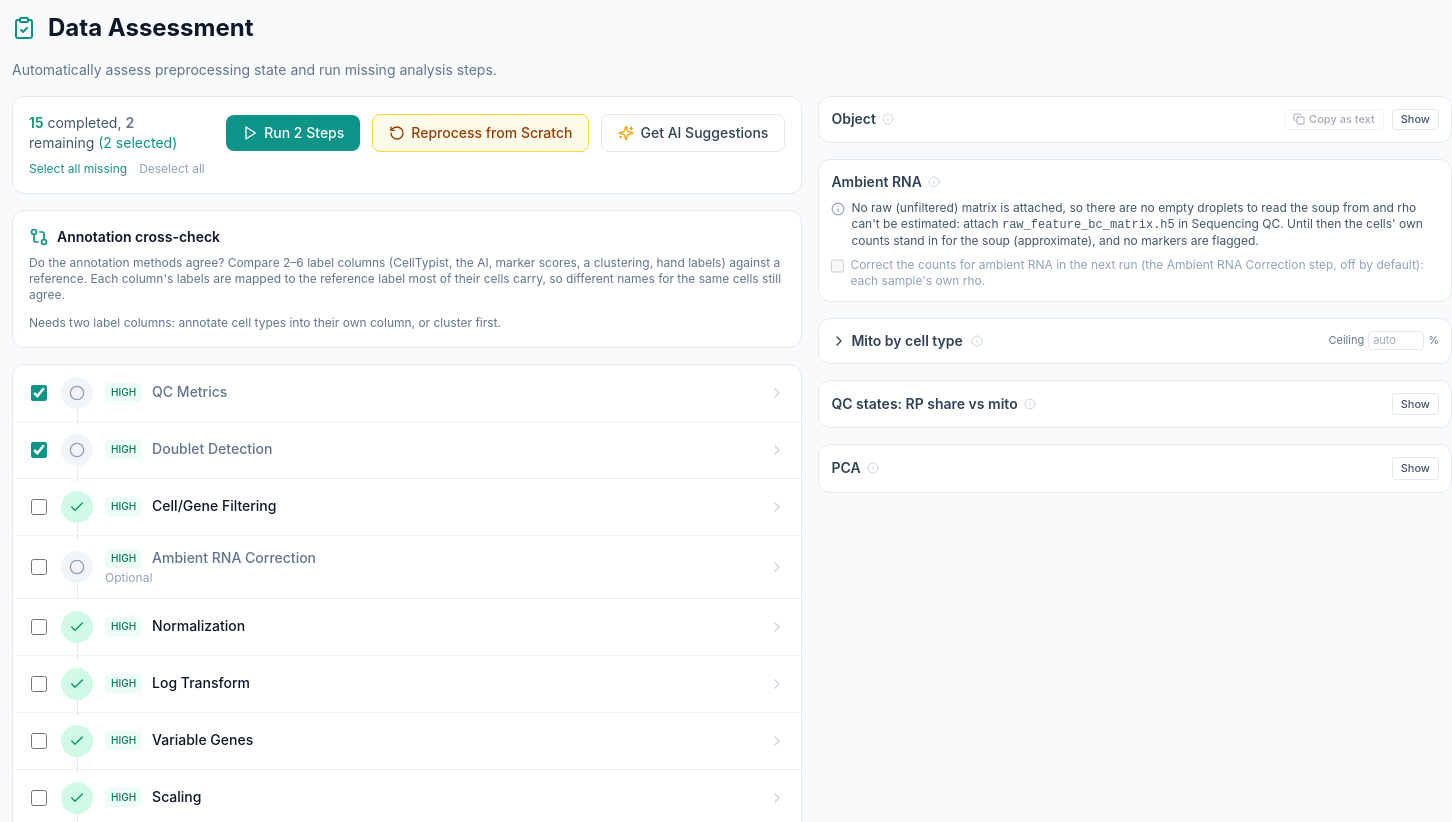
Scenario: DataAssessmentPanel run progress: watchdog, Cancel, outcome › a run that finished with errors: not 'complete'; what failed, what was skipped, what was removed
Click the button "Run 2 Steps" at (293, 133), box [226,115,360,151]
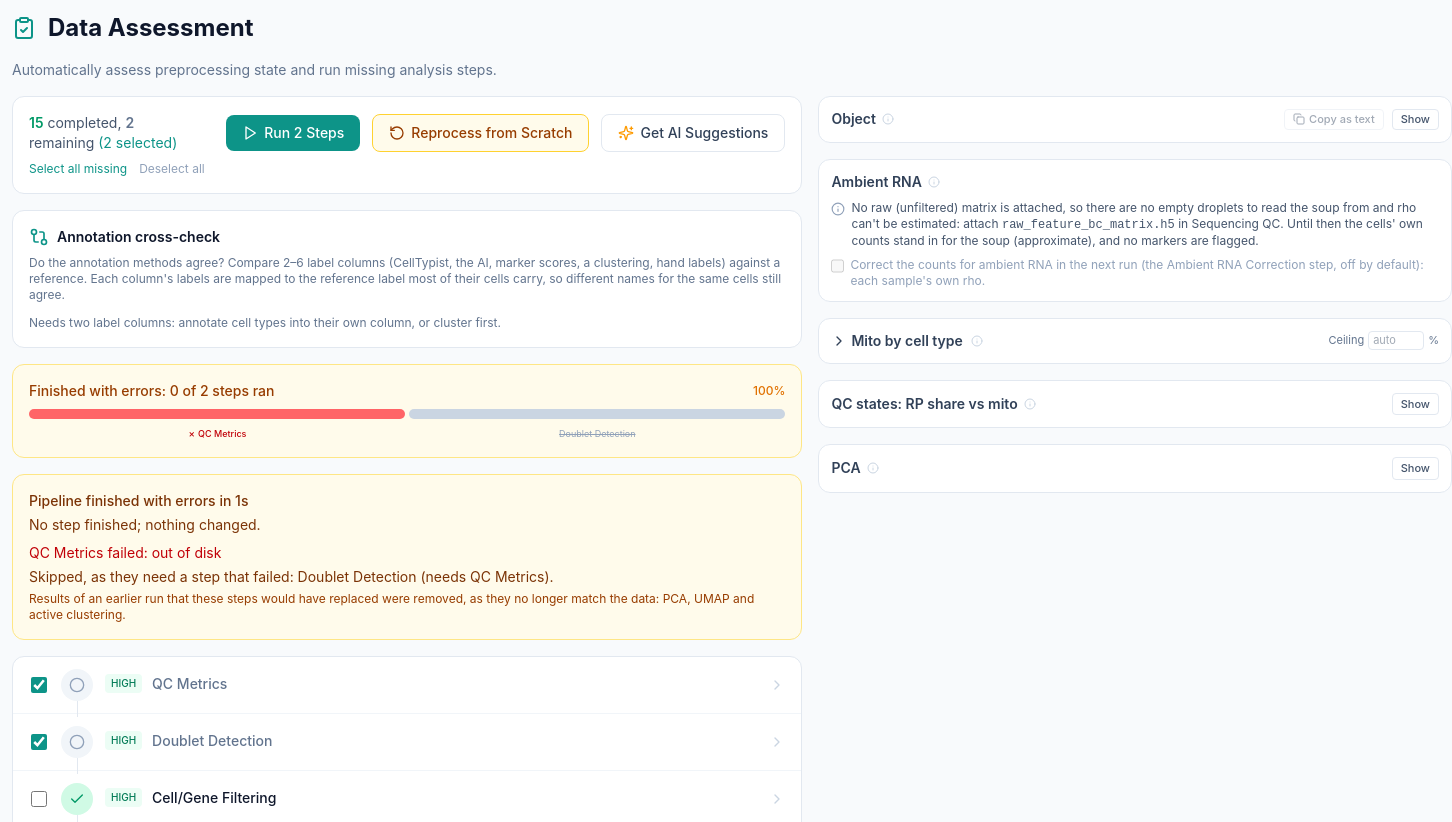
Now the element with test id "run-with-errors" shows "Pipeline finished with errors in 1s", box [12,474,802,640]
Now the element with test id "run-with-errors" shows "QC Metrics failed: out of disk", box [29,544,221,560]
Now the element with test id "run-with-errors" shows "Skipped, as they need a step that failed: Doublet Detection (needs QC Metrics).", box [29,568,554,584]
